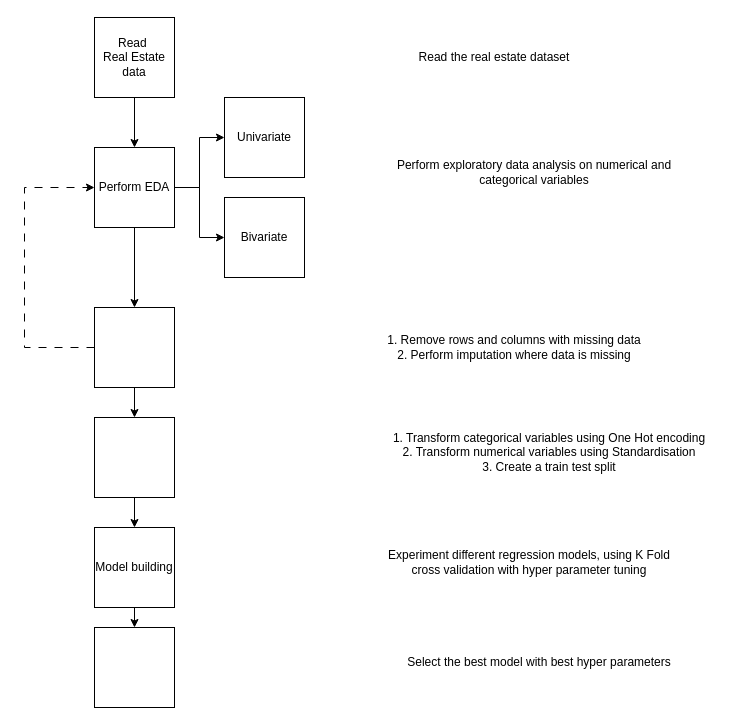
This 732x725 diagram has some shape labels left out. Each missing label, with the centre of its shape:
Data cleaning: the point at 134,347
Data transformation: the point at 134,457
Model evaluation: the point at 134,667
